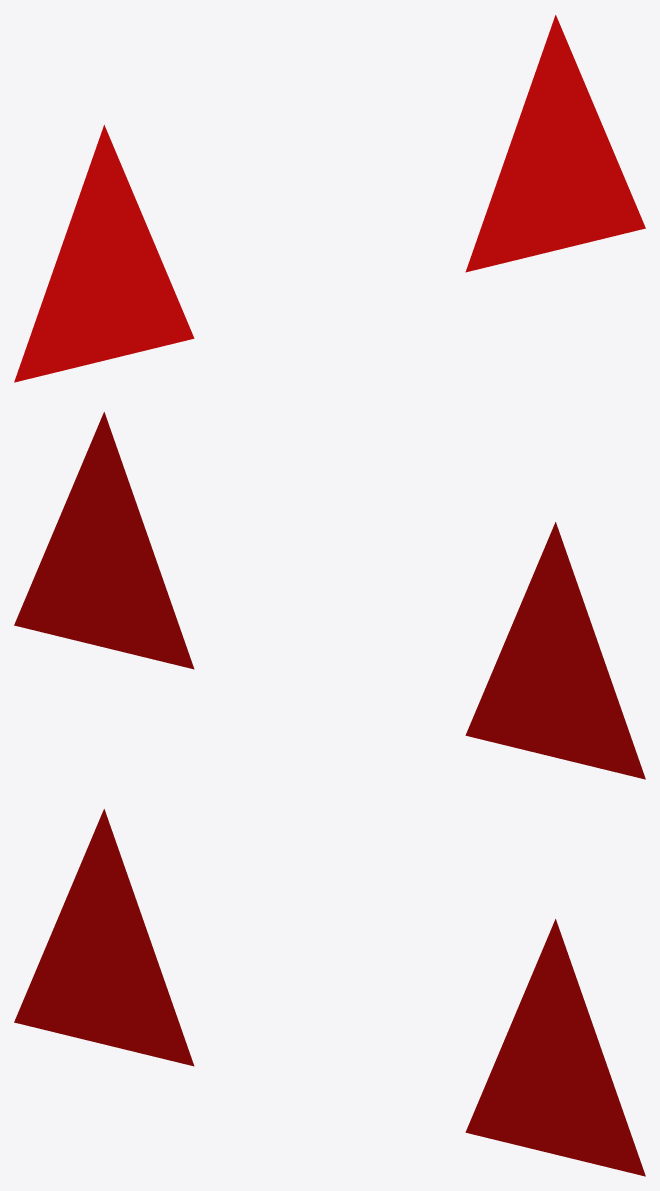
3 views of the same model, one above another, from view 1: azimuth 30°, elevation 25°; view 2: azimuth 150°, elevation 25°; view 3: azimuth 330°, elevation 25° (orthographic).
Visible parts, largest first — view 1: Plain, Mirrored; view 2: Plain, Mirrored; view 3: Plain, Mirrored.
Boxes of the visible parts, box(x1,y1,x2,y2) form: Plain: box(14, 125, 194, 382); Mirrored: box(465, 15, 645, 272); Plain: box(465, 522, 645, 779); Mirrored: box(14, 412, 194, 669); Plain: box(14, 809, 194, 1066); Mirrored: box(465, 919, 645, 1176).
Size of the model in its own units: 2.8 by 1 by 0.
1 material, 1 textured.
